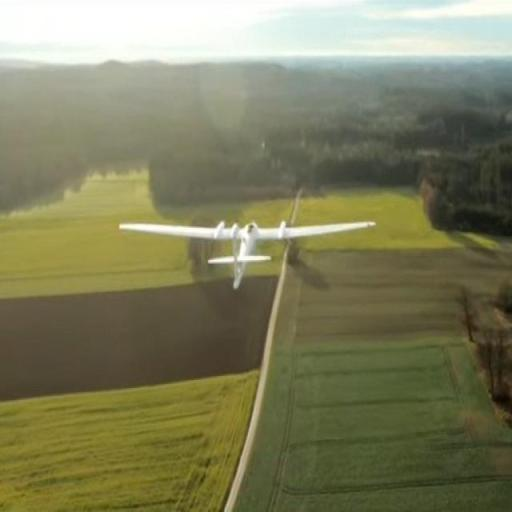uav: (114, 202, 382, 282)
